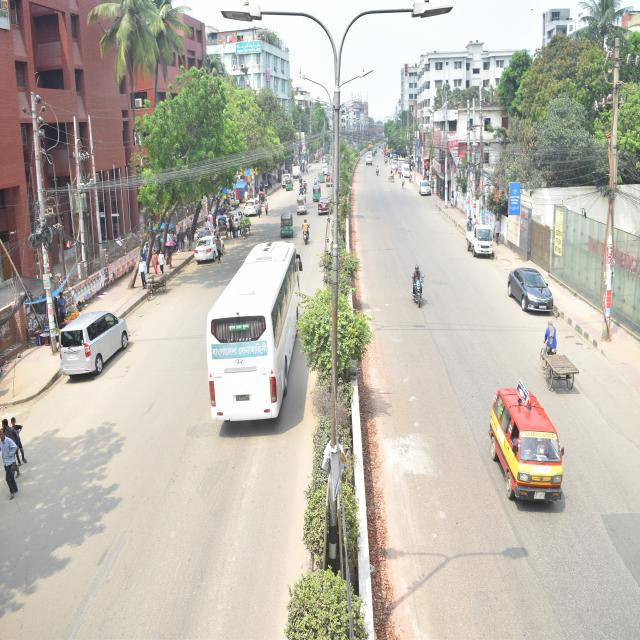bus: (198, 221, 315, 455)
car: (44, 302, 152, 395), (501, 252, 572, 357), (180, 223, 234, 261), (206, 211, 257, 234), (242, 188, 264, 224), (416, 171, 435, 207), (313, 190, 337, 216), (277, 163, 297, 194), (357, 144, 378, 169), (394, 157, 415, 182)
microbus: (482, 339, 574, 515)
motorbike: (394, 240, 449, 331), (294, 213, 320, 246), (374, 160, 385, 190)
pickup-van: (459, 211, 498, 273)
